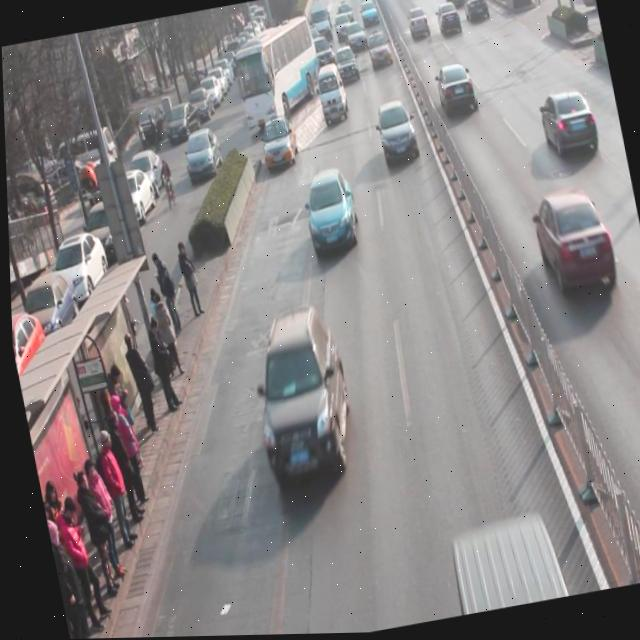car: (238, 304, 361, 494), (529, 187, 620, 302), (297, 166, 363, 262), (537, 89, 602, 166), (374, 102, 421, 171), (433, 63, 479, 119), (257, 116, 301, 174), (333, 46, 362, 89), (309, 36, 338, 79), (365, 32, 394, 73), (435, 3, 464, 41), (341, 23, 370, 60), (406, 8, 431, 43), (462, 0, 491, 28)
truck: (313, 64, 351, 129)
van: (226, 15, 329, 133)
